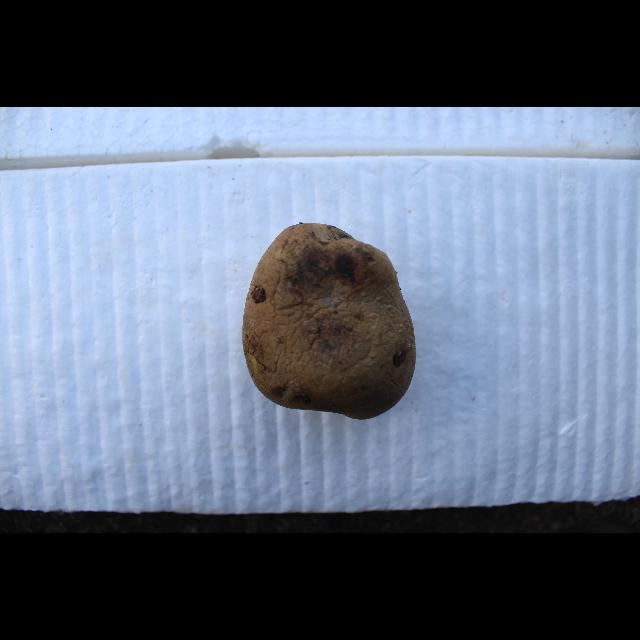Diseased-fungal potato: (239, 221, 416, 419)
